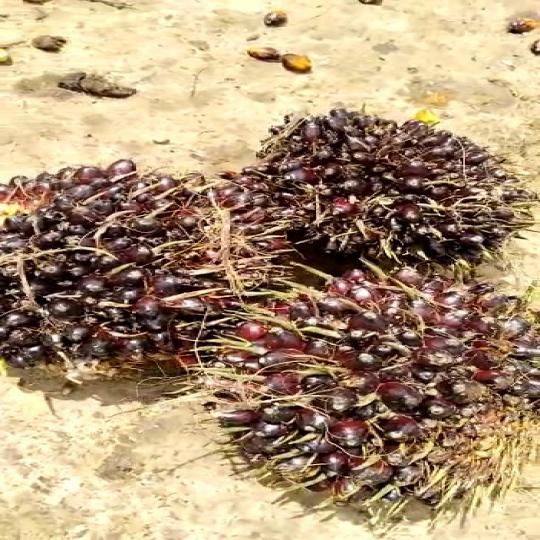mentah: (229, 259, 540, 516), (0, 152, 256, 386), (240, 105, 540, 278)
